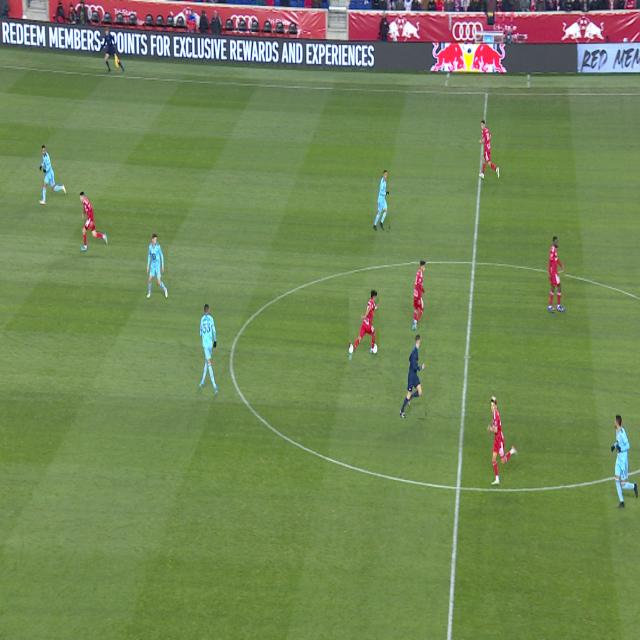football: (350, 344, 354, 353)
player: (487, 395, 517, 485), (611, 415, 638, 508), (349, 289, 379, 362), (199, 304, 218, 395), (80, 192, 108, 252), (39, 145, 66, 205), (147, 234, 168, 298), (479, 119, 499, 180), (549, 237, 564, 312), (412, 261, 426, 331), (374, 170, 389, 231)
referee: (400, 334, 425, 418)
